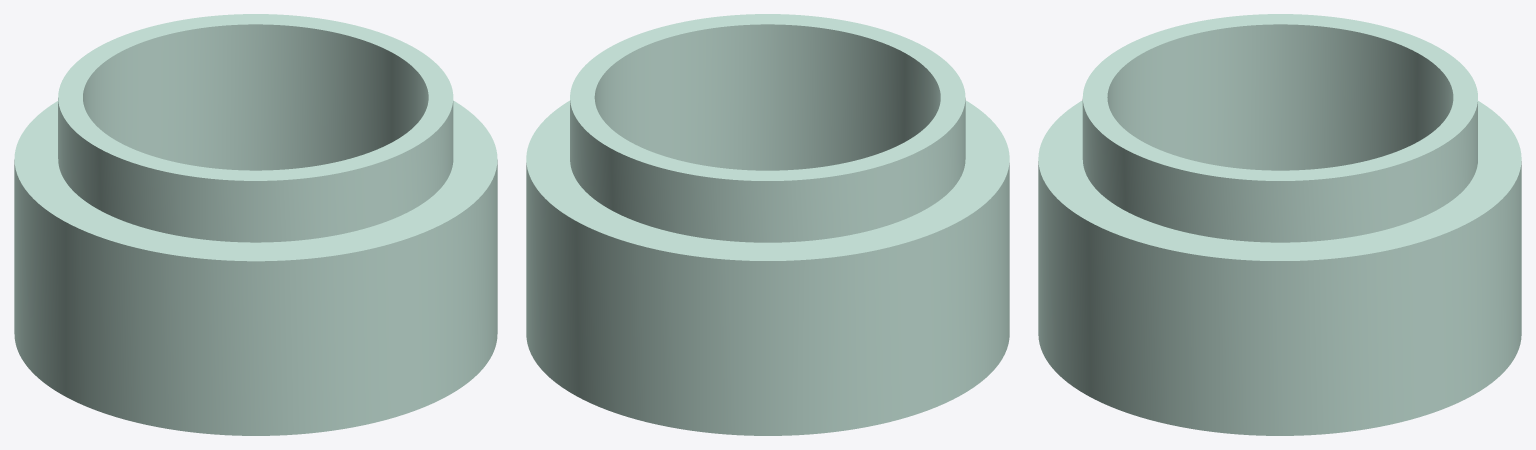
3 views of the same model, side by side, from view 1: azimuth 30°, elevation 25°; view 2: azimuth 150°, elevation 25°; view 3: azimuth 270°, elevation 25° (orthographic).
Parts seen in each view (by area): view 1: Renderer Node; view 2: Renderer Node; view 3: Renderer Node.
Boxes of the visible parts, x1,y1,x2,y2 form: Renderer Node: (14, 14, 497, 435); Renderer Node: (526, 14, 1009, 435); Renderer Node: (1038, 14, 1521, 435).
Size of the model in its own units: 1.39 by 0.75 by 1.39.
